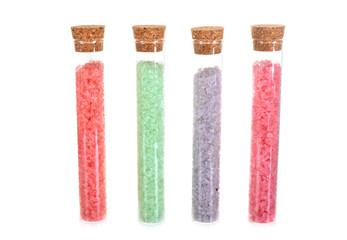Test tube: (185, 21, 230, 223), (244, 15, 286, 219), (72, 11, 112, 220)
object: (126, 24, 173, 215)
